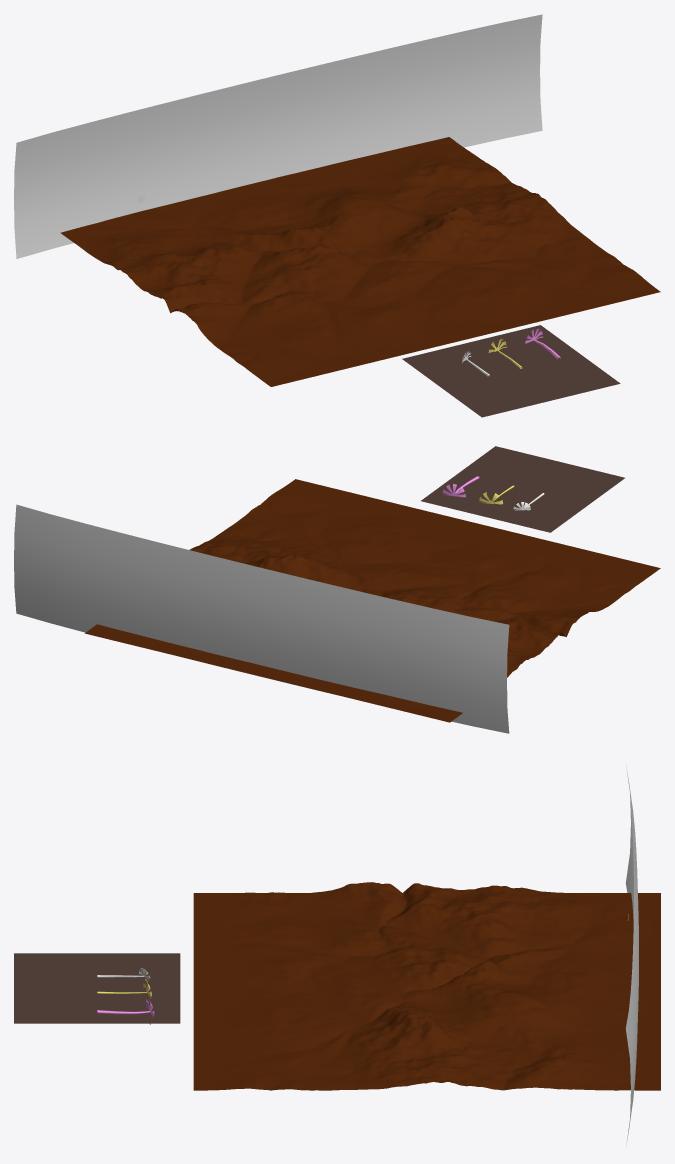
File: sample_grass_bg.glb
The picture shows the model from 3 angles, top to bottom: view 1: azimuth 30°, elevation 25°; view 2: azimuth 150°, elevation 25°; view 3: azimuth 270°, elevation 25°; orthographic projection. The views are drawn at different scales.
Parts seen in each view (by area): view 1: Landscape.001, Plane.001, Plane; view 2: Plane.001, Landscape.001, Plane; view 3: Landscape.001, Plane, Plane.001.
Boxes of the visible parts, x1,y1,x2,y2 form: Landscape.001: (60,137,660,386); Plane.001: (14,14,542,258); Plane: (402,325,620,417); Plane.001: (14,504,509,733); Landscape.001: (85,479,660,722); Plane: (421,446,624,532); Landscape.001: (193,882,660,1090); Plane: (14,953,180,1023); Plane.001: (625,767,638,1144).
Bounding box in the file's own units: 98.51 × 20.83 × 101.
